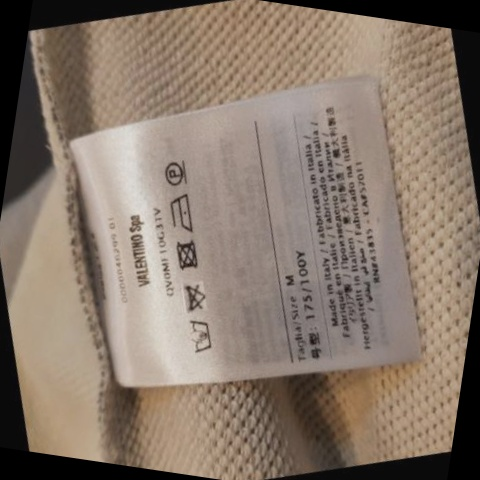DN_bleach: (175, 277, 214, 319)
DN_tumble_dry: (171, 239, 203, 275)
dry_clean_any_solvent_except_trichloroethylene: (160, 152, 194, 191)
hand_wash: (181, 316, 219, 362)
iron_low: (164, 190, 205, 237)
